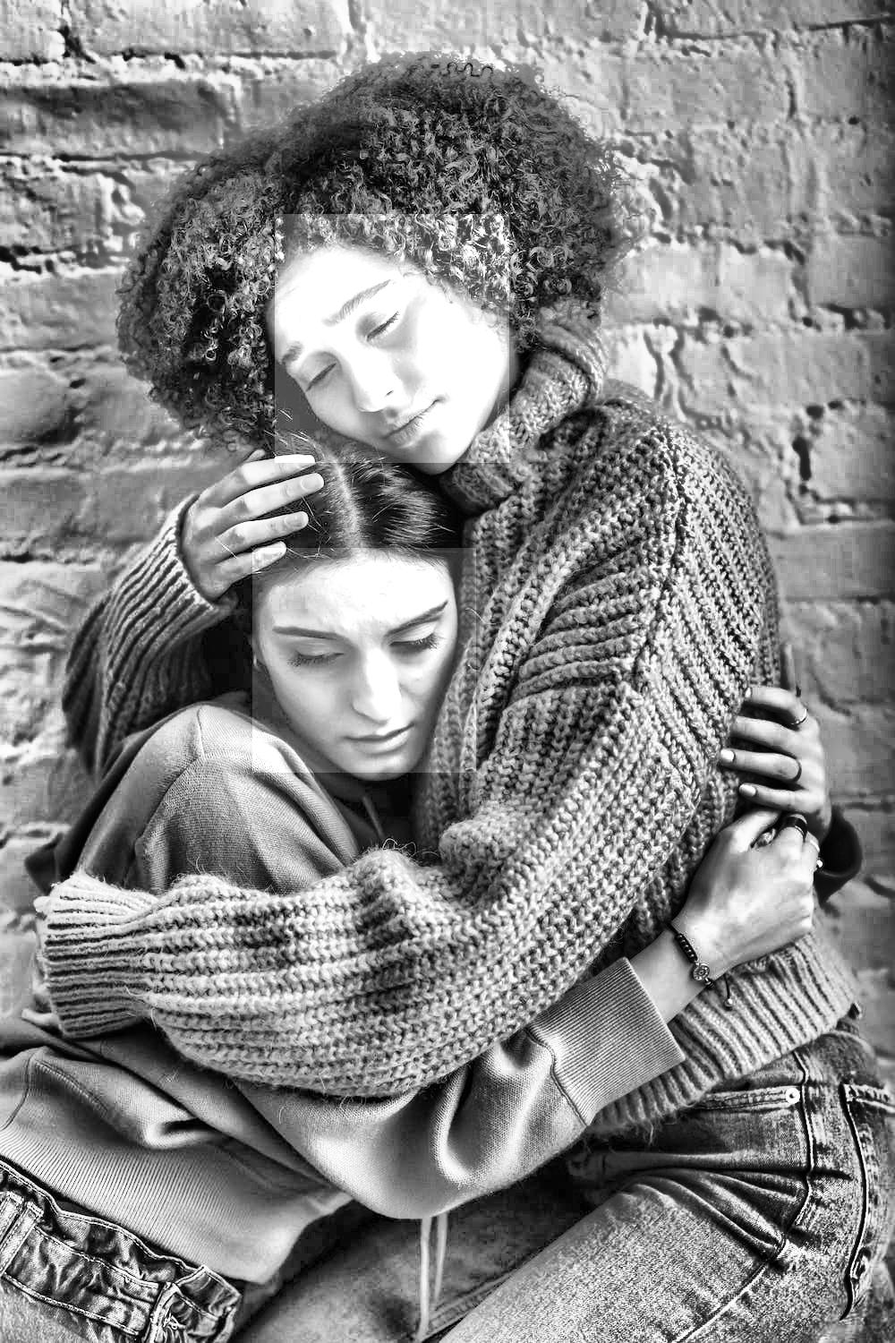sad: (275, 215, 510, 464)
